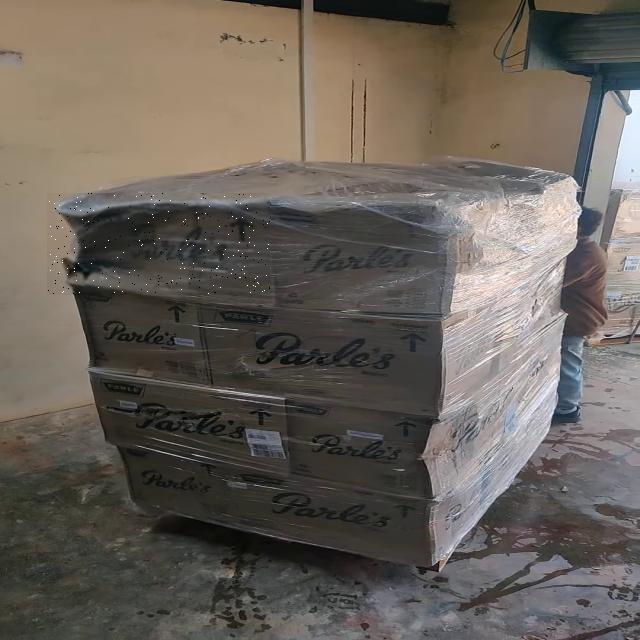squeeze: (48, 193, 270, 294)
